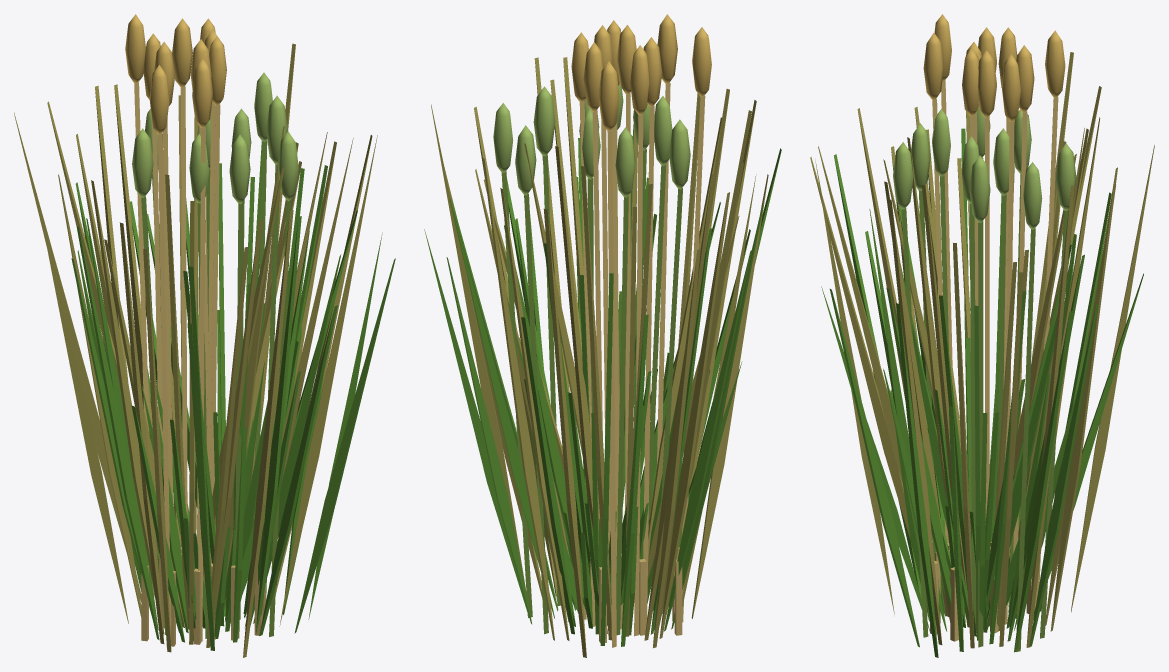
The model's file is Crop_Grain_Barley.fbx.
The picture shows the model from 3 angles, left to right: view 1: azimuth 30°, elevation 25°; view 2: azimuth 150°, elevation 25°; view 3: azimuth 270°, elevation 25°; orthographic projection. The views are drawn at different scales.
Visible parts, largest first — view 1: Crop_Grain_Barley__S4, Crop_Grain_Barley__S3, Crop_Grain_Barley__S2, Crop_Grain_Barley__S5, Crop_Grain_Barley__S1; view 2: Crop_Grain_Barley__S4, Crop_Grain_Barley__S3, Crop_Grain_Barley__S2, Crop_Grain_Barley__S5, Crop_Grain_Barley__S1; view 3: Crop_Grain_Barley__S4, Crop_Grain_Barley__S3, Crop_Grain_Barley__S2, Crop_Grain_Barley__S5, Crop_Grain_Barley__S1.
Boxes of the visible parts, x1=… form: Crop_Grain_Barley__S4: x1=14, y1=14, x2=377, y2=657; Crop_Grain_Barley__S3: x1=71, y1=72, x2=395, y2=650; Crop_Grain_Barley__S2: x1=131, y1=303, x2=323, y2=642; Crop_Grain_Barley__S5: x1=141, y1=518, x2=265, y2=646; Crop_Grain_Barley__S1: x1=181, y1=504, x2=235, y2=631; Crop_Grain_Barley__S4: x1=431, y1=14, x2=768, y2=657; Crop_Grain_Barley__S3: x1=424, y1=84, x2=781, y2=646; Crop_Grain_Barley__S2: x1=516, y1=291, x2=742, y2=634; Crop_Grain_Barley__S5: x1=562, y1=468, x2=696, y2=642; Crop_Grain_Barley__S1: x1=564, y1=478, x2=653, y2=628; Crop_Grain_Barley__S4: x1=810, y1=14, x2=1154, y2=648; Crop_Grain_Barley__S3: x1=821, y1=105, x2=1143, y2=657; Crop_Grain_Barley__S2: x1=883, y1=338, x2=1077, y2=651; Crop_Grain_Barley__S5: x1=930, y1=455, x2=1035, y2=641; Crop_Grain_Barley__S1: x1=939, y1=511, x2=1018, y2=632.
Bounding box in the file's own units: 0.1918 × 0.3621 × 0.1968.
